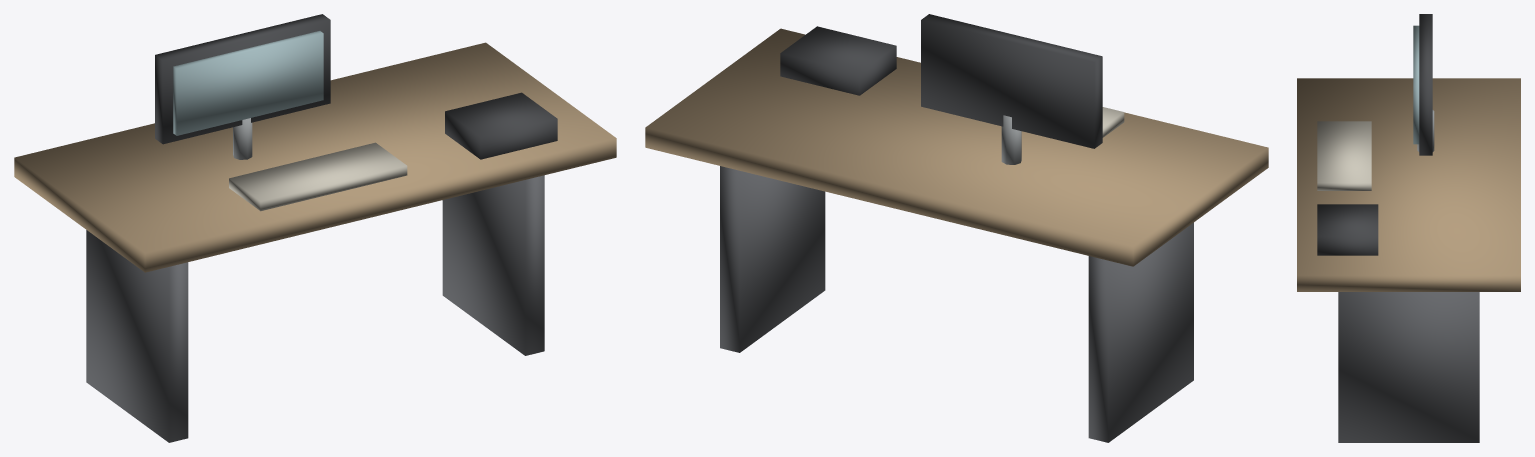
Rendered from modern_workstation__squat.glb.
3 views of the same model, side by side, from view 1: azimuth 30°, elevation 25°; view 2: azimuth 150°, elevation 25°; view 3: azimuth 270°, elevation 25° (orthographic). The views are drawn at different scales.
Parts seen in each view (by area): view 1: world; view 2: world; view 3: world.
Boxes of the visible parts, x1=… form: world: x1=14, y1=14, x2=616, y2=442; world: x1=645, y1=14, x2=1268, y2=442; world: x1=1297, y1=14, x2=1520, y2=442.
Bounding box in the file's own units: 1.49 × 1.02 × 0.7128.
